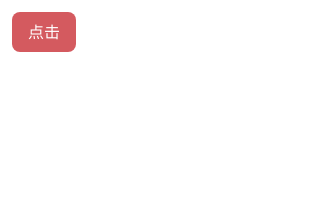
Test: Dropdown › 点击时应该显示下拉菜单
This screenshot has width=332, height=197.
Click the button "点击" at (44, 32), box [12,12,76,52]
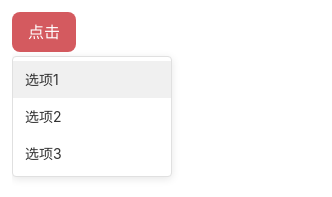
Now the text "选项1" is shown, box [25,69,59,90]
